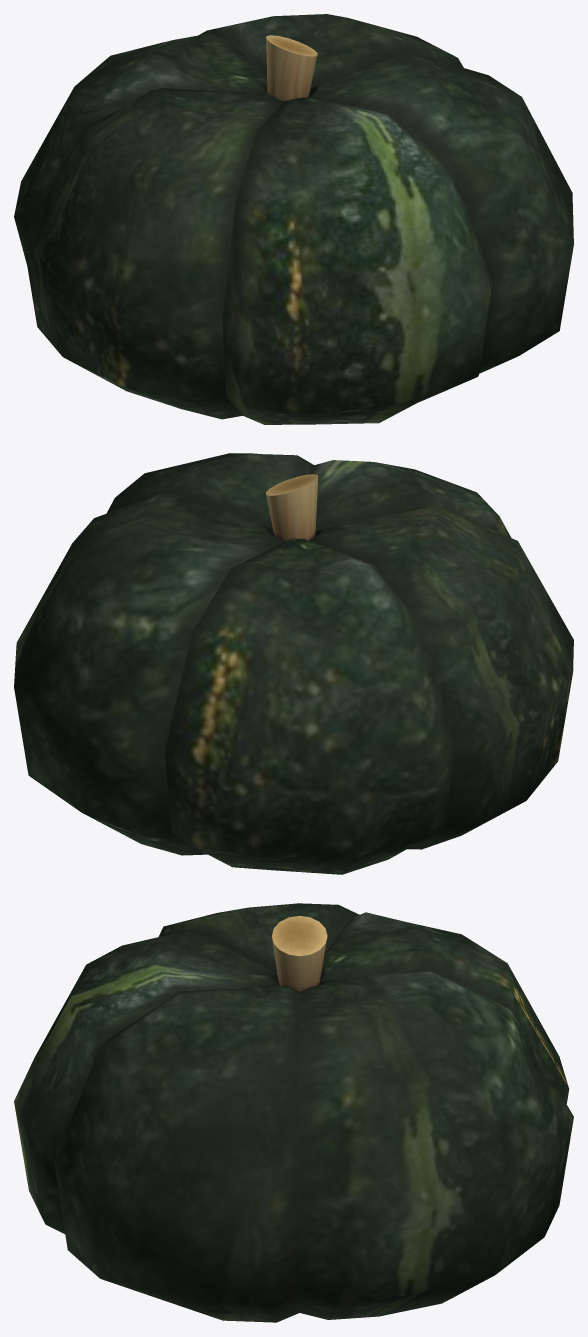
File: Pumpkin.FBX
3 views of the same model, one above another, from view 1: azimuth 30°, elevation 25°; view 2: azimuth 150°, elevation 25°; view 3: azimuth 270°, elevation 25° (orthographic).
Visible parts, largest first — view 1: pumpkin; view 2: pumpkin; view 3: pumpkin.
Boxes of the visible parts, x1,y1,x2,y2 form: pumpkin: [14, 14, 573, 424]; pumpkin: [14, 453, 573, 874]; pumpkin: [14, 903, 573, 1322].
Bounding box in the file's own units: 9.05 × 5.94 × 9.06.
Materials: 1 (1 with a texture image).
